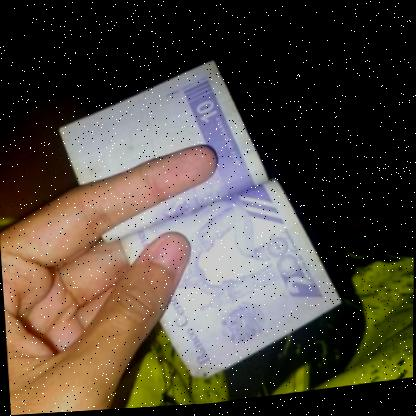ten-back-vef: (48, 48, 350, 405)
